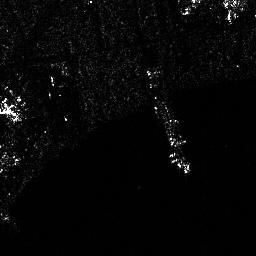ship: (154, 97, 185, 148), (169, 152, 191, 174)
